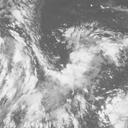cyclone: (34, 37, 94, 94)
